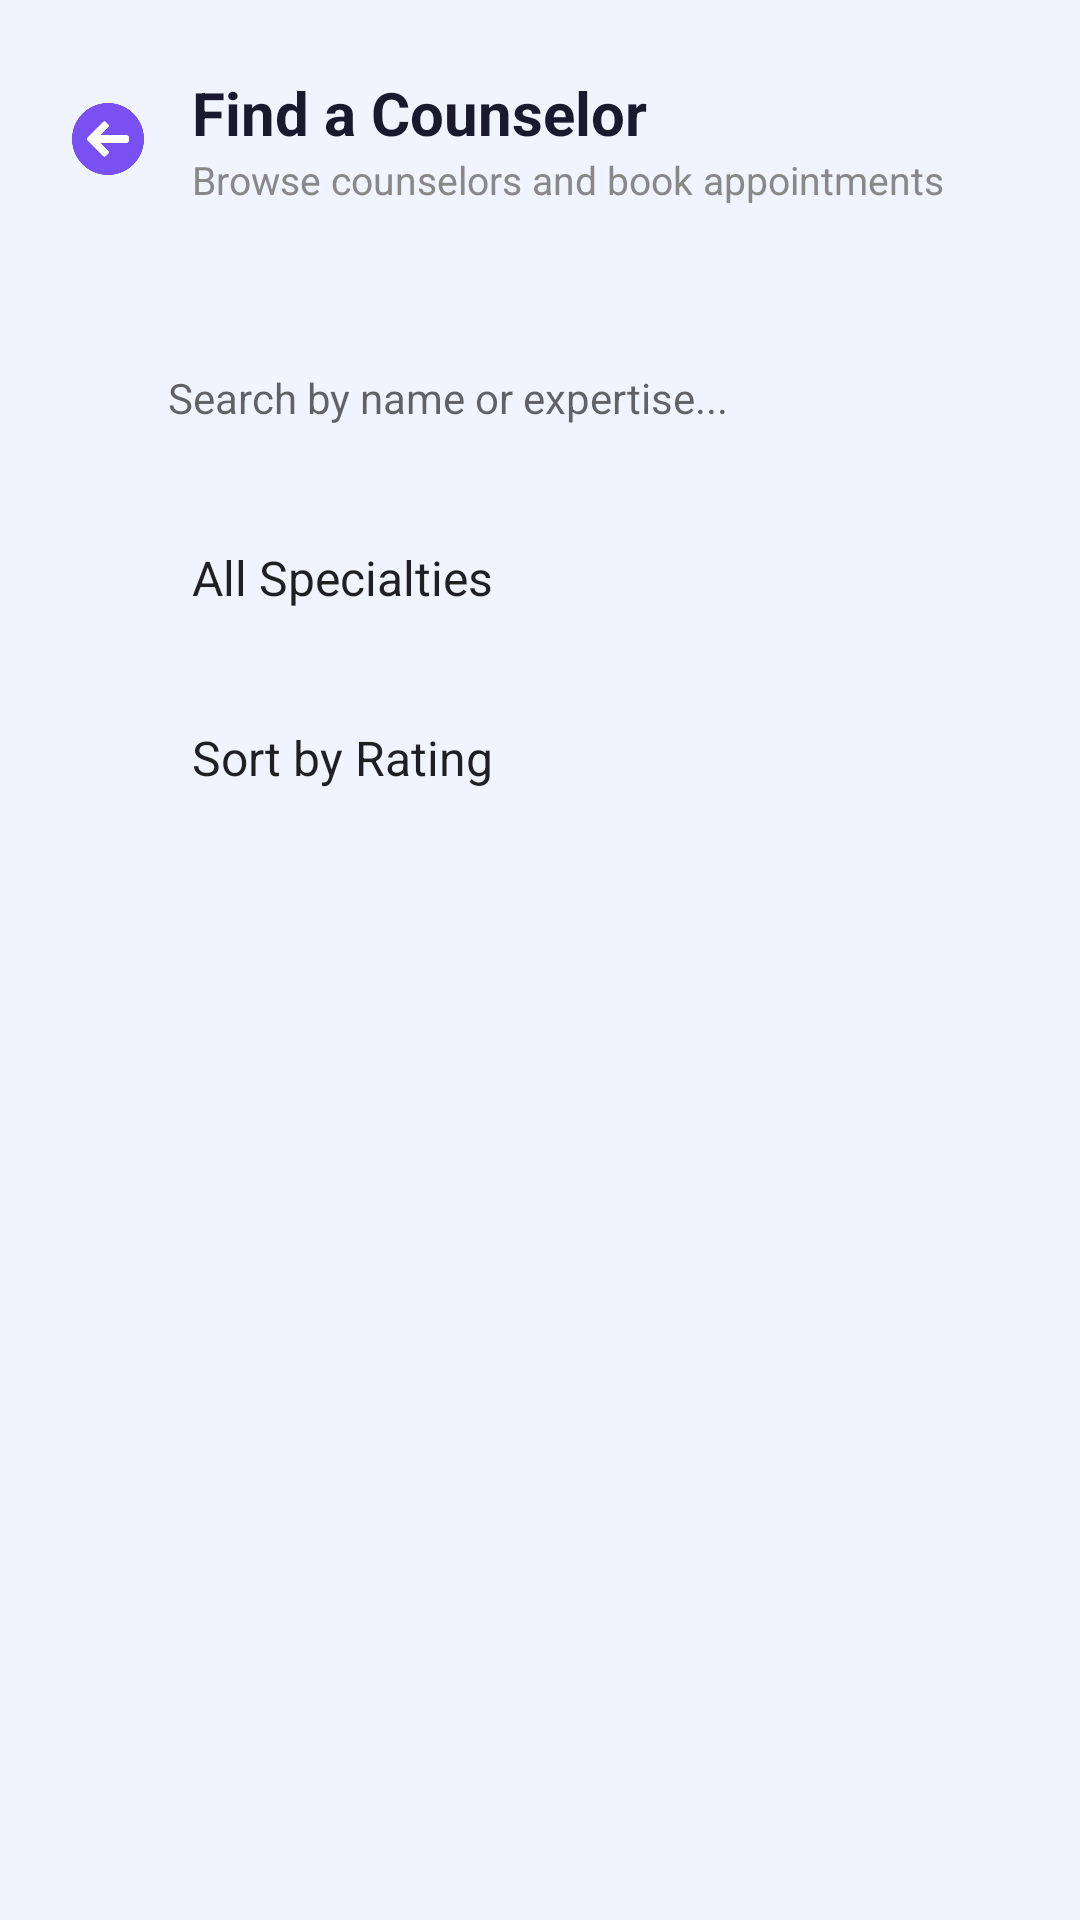

Icons on this 1080px×1920px Android screen, each with its box as (x1, y1, x2, y2):
back arrow: (72, 103, 144, 175)
